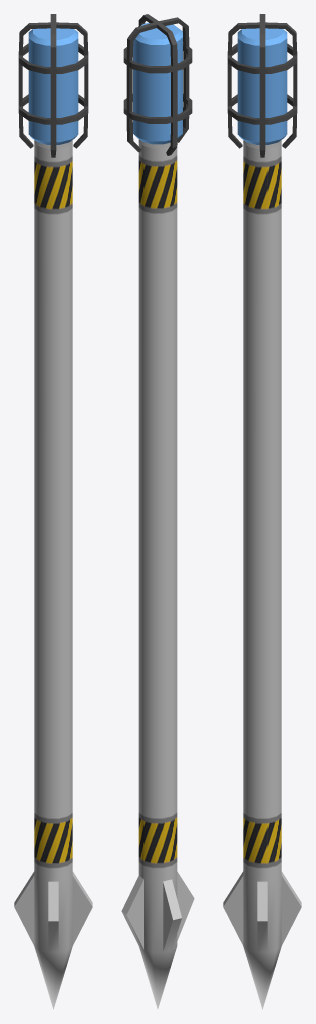
File: CallKeiFlag.fbx
The picture shows the model from 3 angles, left to right: view 1: azimuth 90°, elevation 25°; view 2: azimuth 210°, elevation 25°; view 3: azimuth 270°, elevation 25°; orthographic projection.
Visible parts, largest first — view 1: pCylinder15; view 2: pCylinder15; view 3: pCylinder15.
Part boxes in pixels (x1,y1,x2,y2): pCylinder15: (14, 14, 92, 1009); pCylinder15: (121, 14, 194, 1008); pCylinder15: (223, 14, 301, 1009).
Bounding box in the file's own units: 0.0786 × 1.09 × 0.0786.
